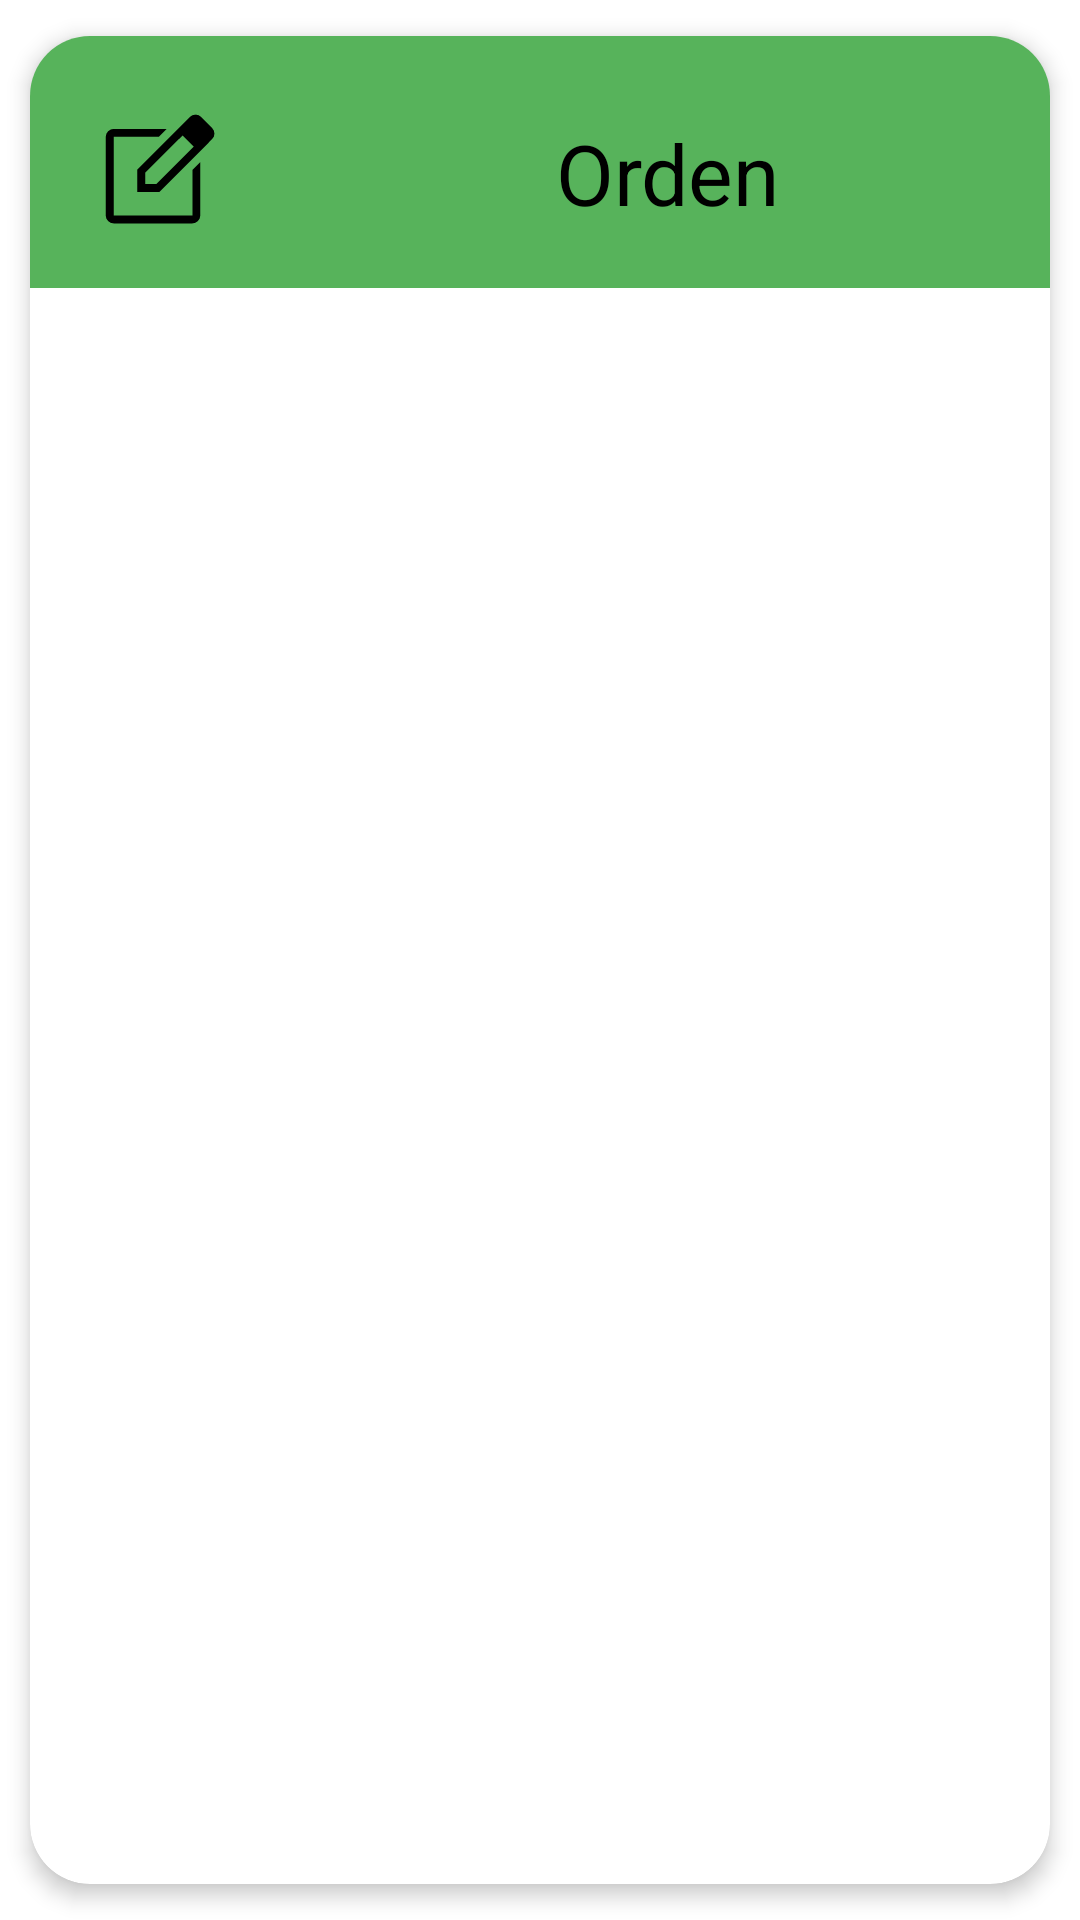

Where to tap for icons on this 1080x1920 app screen, as (x,y):
edit square: (160,169)
